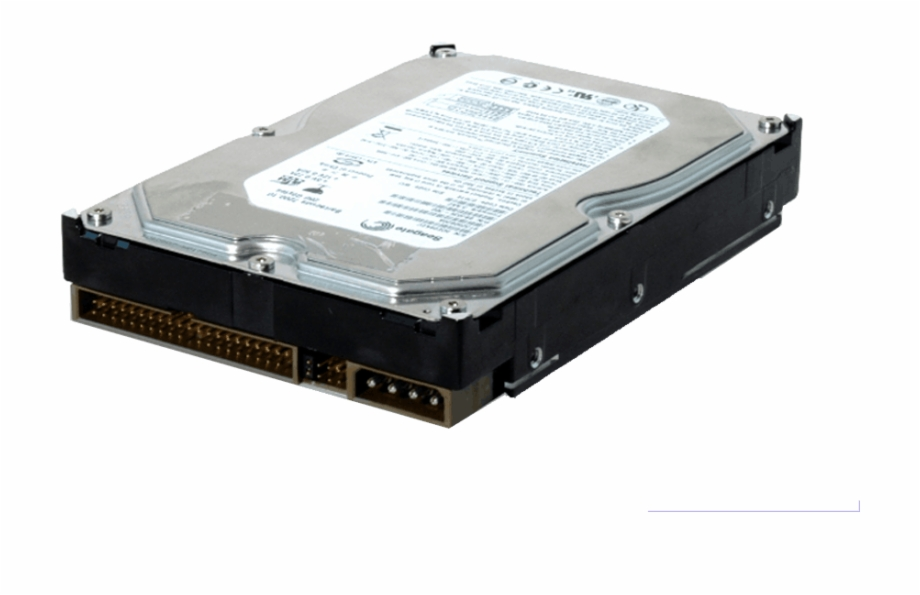IDE Hard Drive: (43, 33, 811, 463)
